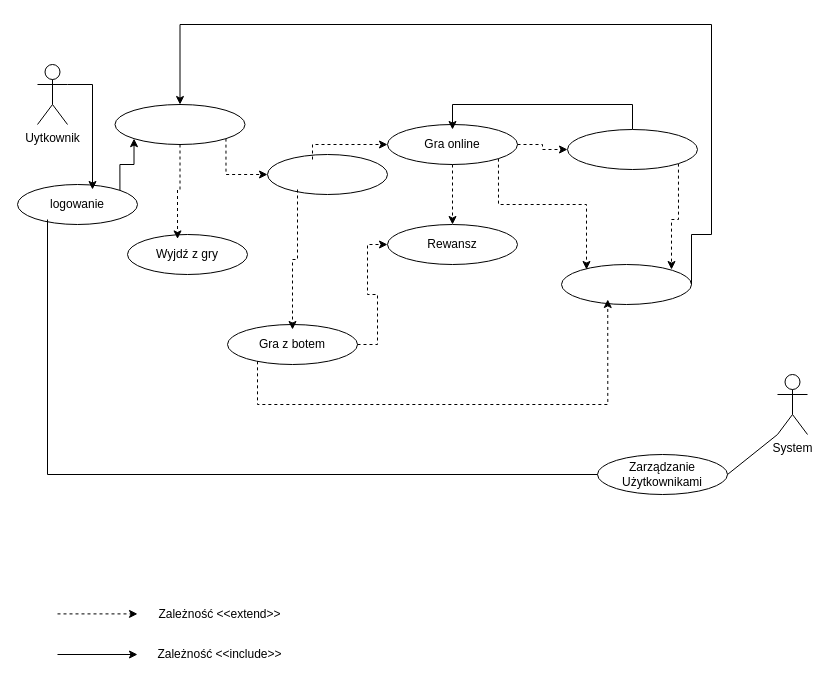
The diagram is 830 pixels wide and 692 high, and some of its shapes have lost their labels. The shapes that lost their labels are listed below. From the top down, each one's centre as x and y in pixels, then its label:
At pixel 179 124: "panel glówny".
At pixel 632 149: "Znajd następną grę".
At pixel 327 174: "start game".
At pixel 626 284: "Zakocz grę".
